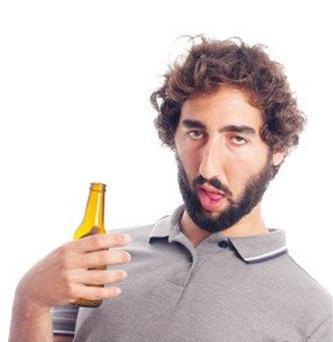Drunk: (177, 100, 262, 217)
